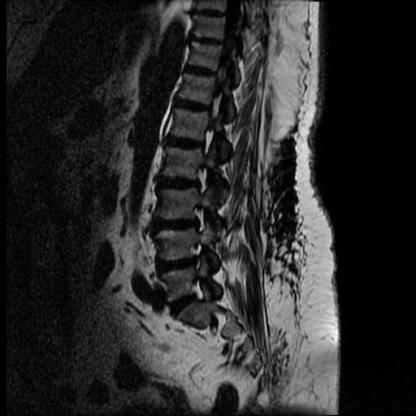Degenerative Disc Diseaserotation: (157, 254, 195, 277)
Disc Bulgerotation: (153, 213, 197, 239), (159, 173, 202, 194), (166, 292, 203, 316), (157, 255, 195, 278), (167, 134, 206, 154)
